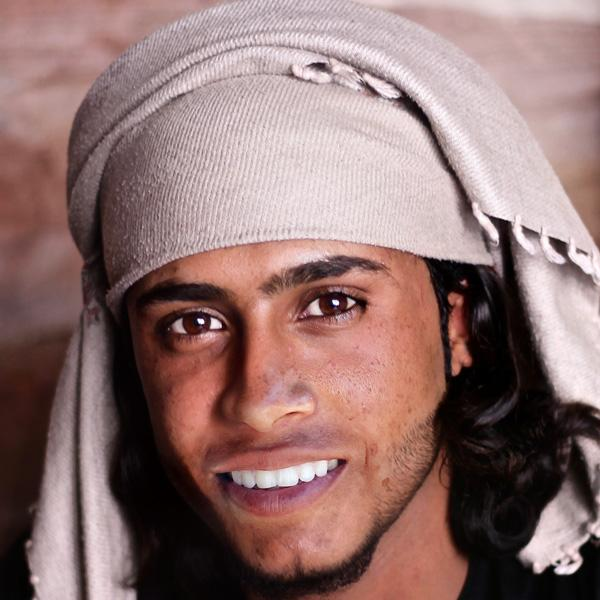Eyes: (287, 275, 376, 335), (151, 294, 237, 351)
